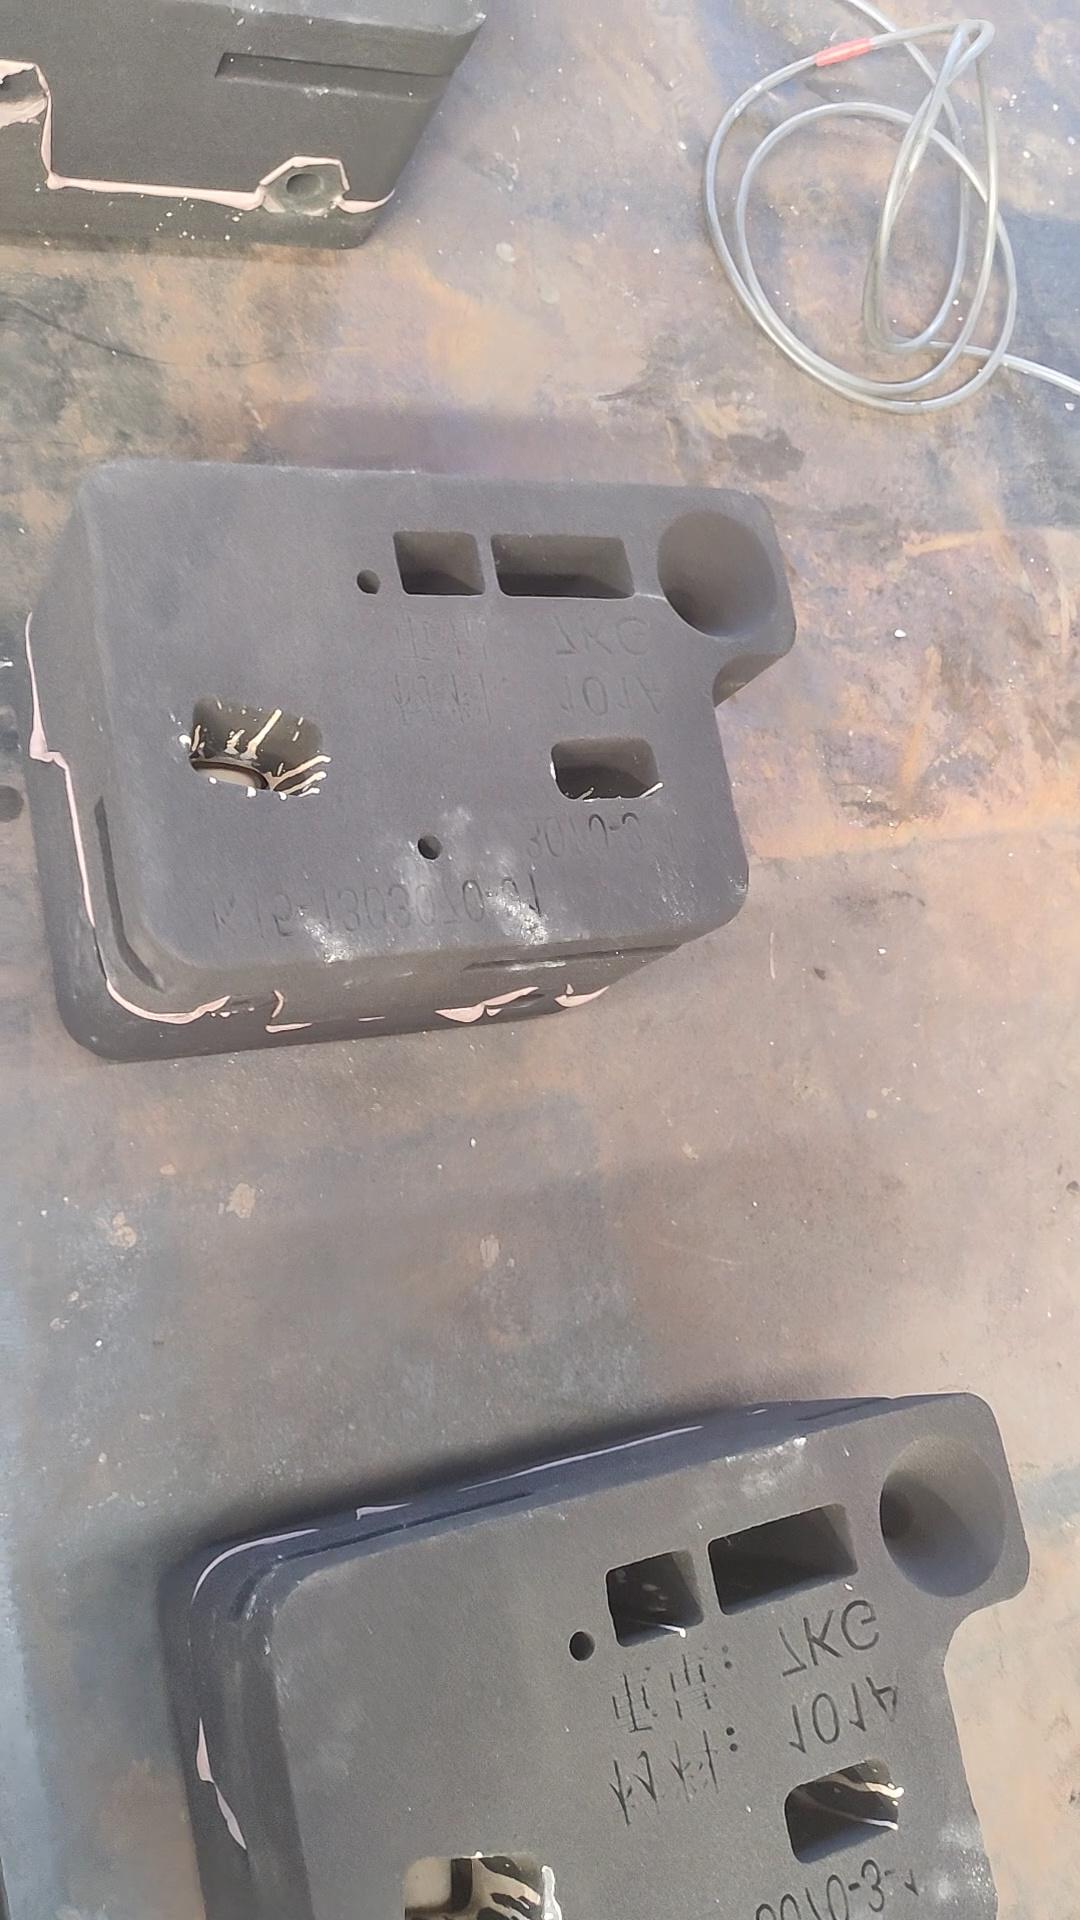pouring hole: (881, 1436, 1004, 1596), (655, 510, 779, 640)
